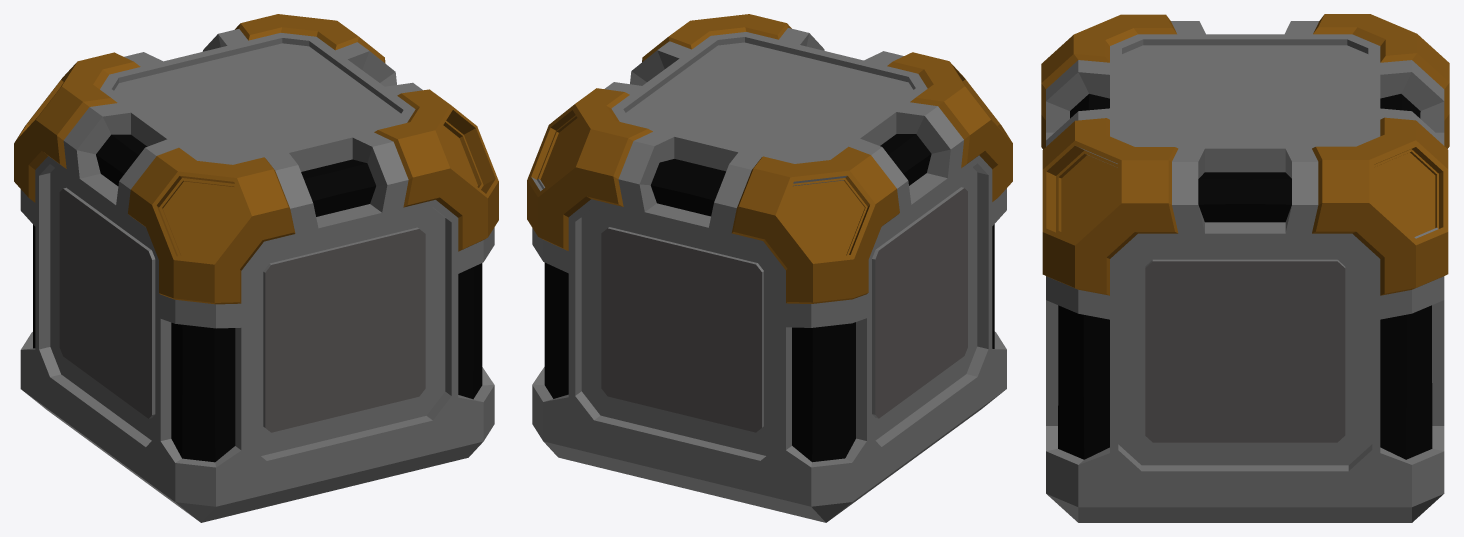
Rendered from Crate.fbx.
3 renders of one model, left to right at view 1: azimuth 30°, elevation 25°; view 2: azimuth 150°, elevation 25°; view 3: azimuth 270°, elevation 25°, orthographic. The views are drawn at different scales.
Parts seen in each view (by area): view 1: Cube; view 2: Cube; view 3: Cube.
Part boxes in pixels (x1,y1,x2,y2): Cube: (14, 14, 498, 522); Cube: (527, 14, 1012, 522); Cube: (1041, 14, 1449, 522).
Size of the model in its own units: 317 by 314 by 317.
